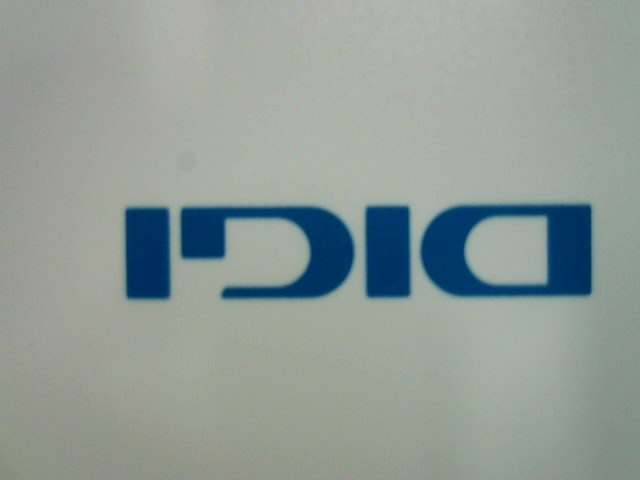BL_DIGI: (114, 189, 602, 311)
